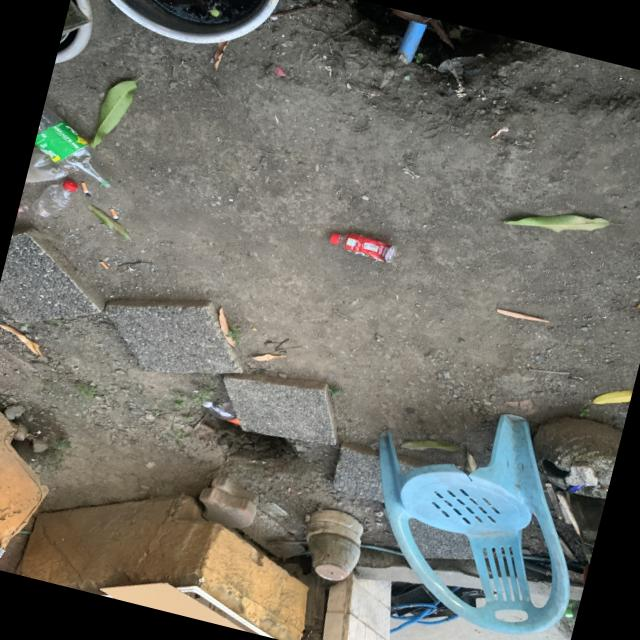Bottle: (329, 232, 396, 262)
